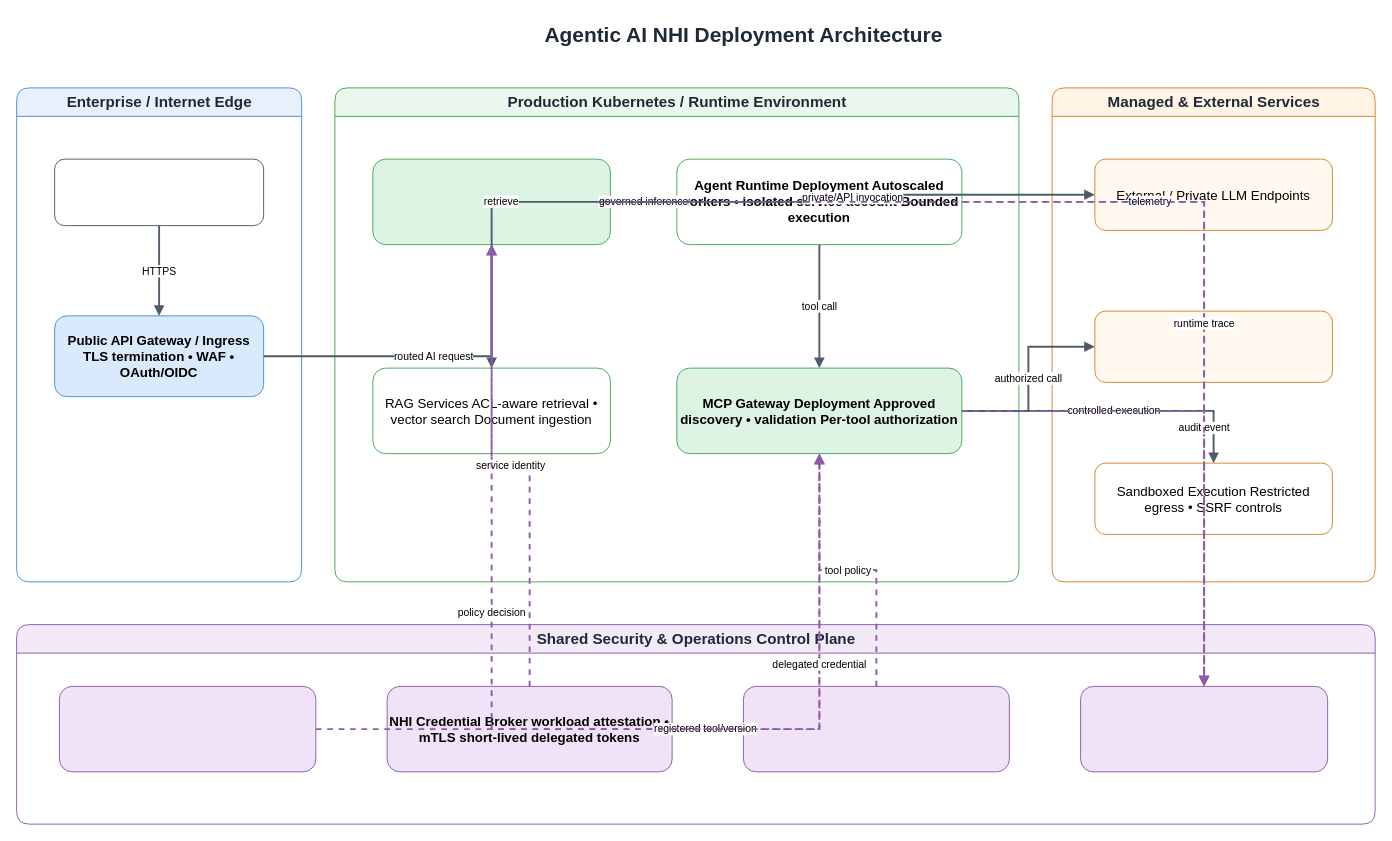
Some shapes in this 1392 by 841 pixel diagram are drawn without their labels. Here are the shapes that lost their labels. From the top down, the centre of each, then its label:
point (159, 192): Users / Enterprise Apps CI/CD pipelines
point (491, 201): AI Gateway Deployment HA replicas • model routing DLP / telemetry
point (1213, 346): Registered MCP Servers SaaS APIs • business tools
point (187, 728): Trust Registry agent / tool / model inventory version & ownership
point (875, 728): Policy Engine / PDP scopes • approvals • revocation risk & action budgets
point (1204, 728): Audit / SIEM / FinOps central logs • traces • events token / cost telemetry
